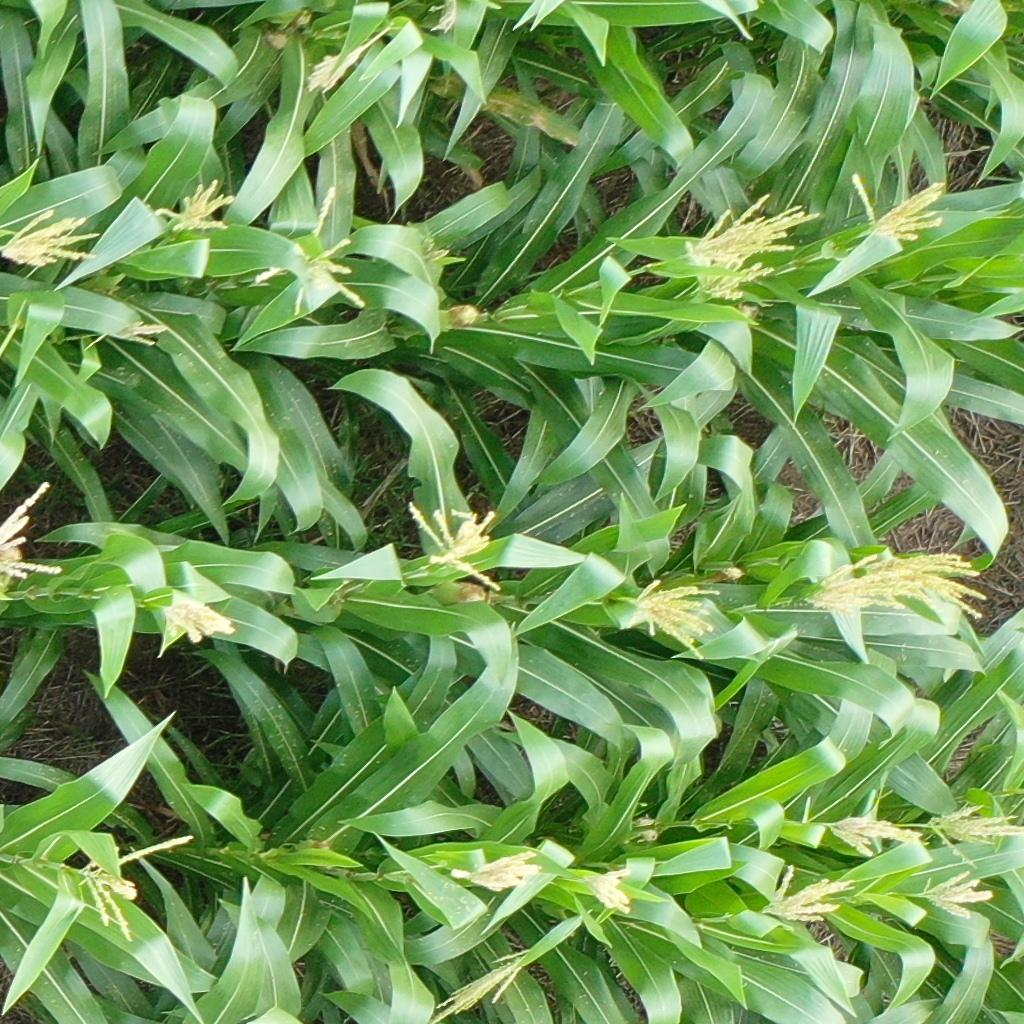Tassel: (245, 188, 377, 324), (72, 835, 192, 938), (693, 193, 820, 265), (405, 501, 504, 591), (632, 578, 725, 665), (879, 549, 989, 620), (845, 174, 950, 247), (825, 789, 930, 860), (797, 552, 899, 623), (1, 206, 104, 276), (924, 800, 1024, 871), (427, 953, 527, 1024), (1, 482, 66, 585), (763, 863, 857, 927), (685, 242, 774, 306), (152, 179, 239, 238), (448, 851, 544, 895), (919, 870, 995, 919), (161, 591, 234, 642), (303, 44, 367, 94), (578, 870, 637, 914), (109, 316, 165, 348), (426, 1, 465, 34), (419, 238, 454, 268)
